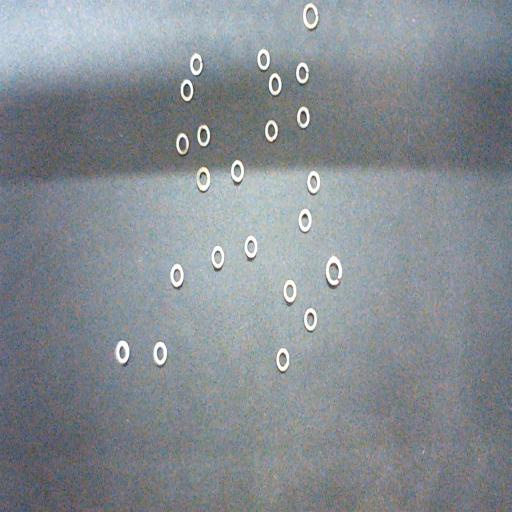washer: (325, 256, 342, 287), (303, 3, 318, 30), (114, 340, 130, 365), (196, 166, 210, 191), (153, 341, 167, 366), (276, 347, 290, 372), (189, 52, 203, 76), (180, 78, 194, 102), (268, 72, 282, 96), (306, 170, 320, 194), (298, 208, 312, 232), (244, 235, 258, 259), (170, 263, 184, 287), (304, 307, 317, 332), (211, 246, 225, 269), (284, 279, 297, 303), (176, 132, 189, 155), (197, 124, 210, 147), (231, 159, 244, 182), (257, 48, 270, 71), (265, 119, 278, 142), (297, 105, 310, 128), (296, 62, 309, 84)
